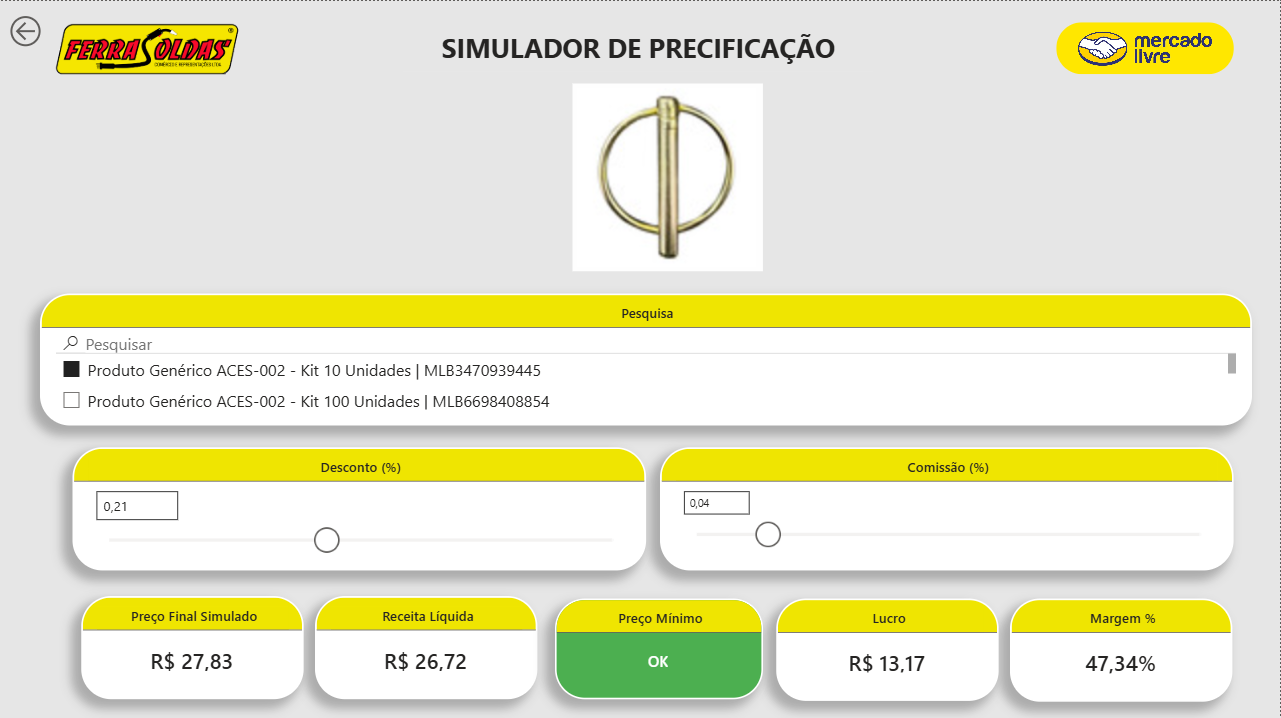

Layout of this report page (visuals, bound fields, positions):
{"tool":"powerbi","page":{"name":"Simulador","canvas":[1280,720],"ordinal":4},"visuals":[{"type":"slicer","title":"Comissão (%)","fields":{"Values":["Param Comissão.Param Comissão"]},"box":[659.6,446.3,573.5,123.2],"z":0},{"type":"slicer","title":"Desconto (%)","fields":{"Values":["param_desconto.param_desconto"]},"box":[72.4,446.3,573.5,123.2],"z":1000},{"type":"cardVisual","title":"Margem %","fields":{"Data":["medidas.margem %"]},"box":[1010.6,597.8,222.7,103.2],"z":2000},{"type":"cardVisual","title":"Lucro","fields":{"Data":["medidas.lucro"]},"box":[776.7,597.8,222.7,102],"z":3000},{"type":"cardVisual","title":"Receita Líquida","fields":{"Data":["medidas.receita liquida"]},"box":[315.2,595.3,222.7,103.2],"z":4000},{"type":"cardVisual","title":"Preço Final Simulado","fields":{"Data":["medidas.preco final simulado"]},"box":[81.4,595.3,222.7,103.2],"z":5000},{"type":"cardVisual","title":"Preço Mínimo","fields":{"Data":["medidas.flag preco minimo"]},"box":[555.1,598.1,207.7,100.8],"z":6000},{"type":"actionButton","box":[0,6.2,51,47.3],"z":7000},{"type":"slicer","title":"Pesquisa","fields":{"Values":["fact_anuncios.pesquisa (display)"]},"box":[40.1,292.1,1211.6,131.9],"z":8000},{"type":"image","box":[1056.1,21.1,177.9,52.2],"z":9000},{"type":"image","box":[51,14.9,195.3,67.2],"z":10000},{"type":"textbox","box":[403,23.6,471.5,47.3],"z":11000},{"type":"simpleImageEBC4593F96F1425FB3D84C5BF02B5075","fields":{"imageURL":["fact_anuncios.imagem"]},"box":[572.1,82.6,190.7,188.4],"z":12000}]}

Visuals, with their boxes in screenshot pixels (x1, y1, x2, y2), scaled from the page's 1280x720 canvas onto the 1281x718 screenshot:
"Comissão (%)" slicer: locate(660, 445, 1234, 568)
"Desconto (%)" slicer: locate(72, 445, 646, 568)
"Margem %" cardVisual: locate(1011, 596, 1234, 699)
"Lucro" cardVisual: locate(777, 596, 1000, 698)
"Receita Líquida" cardVisual: locate(315, 594, 538, 697)
"Preço Final Simulado" cardVisual: locate(81, 594, 304, 697)
"Preço Mínimo" cardVisual: locate(556, 596, 763, 697)
actionButton: locate(0, 6, 51, 53)
"Pesquisa" slicer: locate(40, 291, 1253, 423)
image: locate(1057, 21, 1235, 73)
image: locate(51, 15, 246, 82)
textbox: locate(403, 24, 875, 71)
simpleImageEBC4593F96F1425FB3D84C5BF02B5075 - fact_anuncios.imagem: locate(573, 82, 763, 270)
